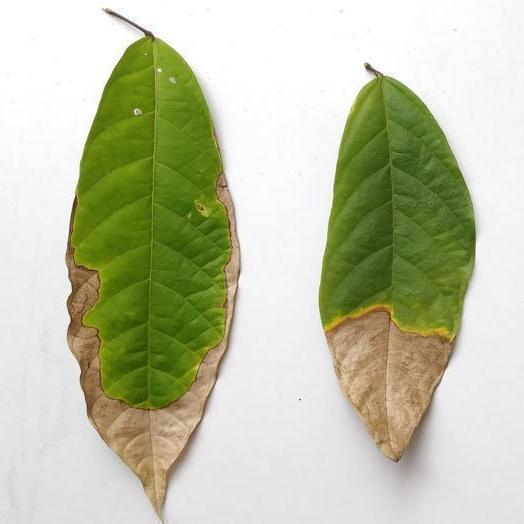Potassium: (66, 10, 238, 515), (321, 64, 474, 460)
